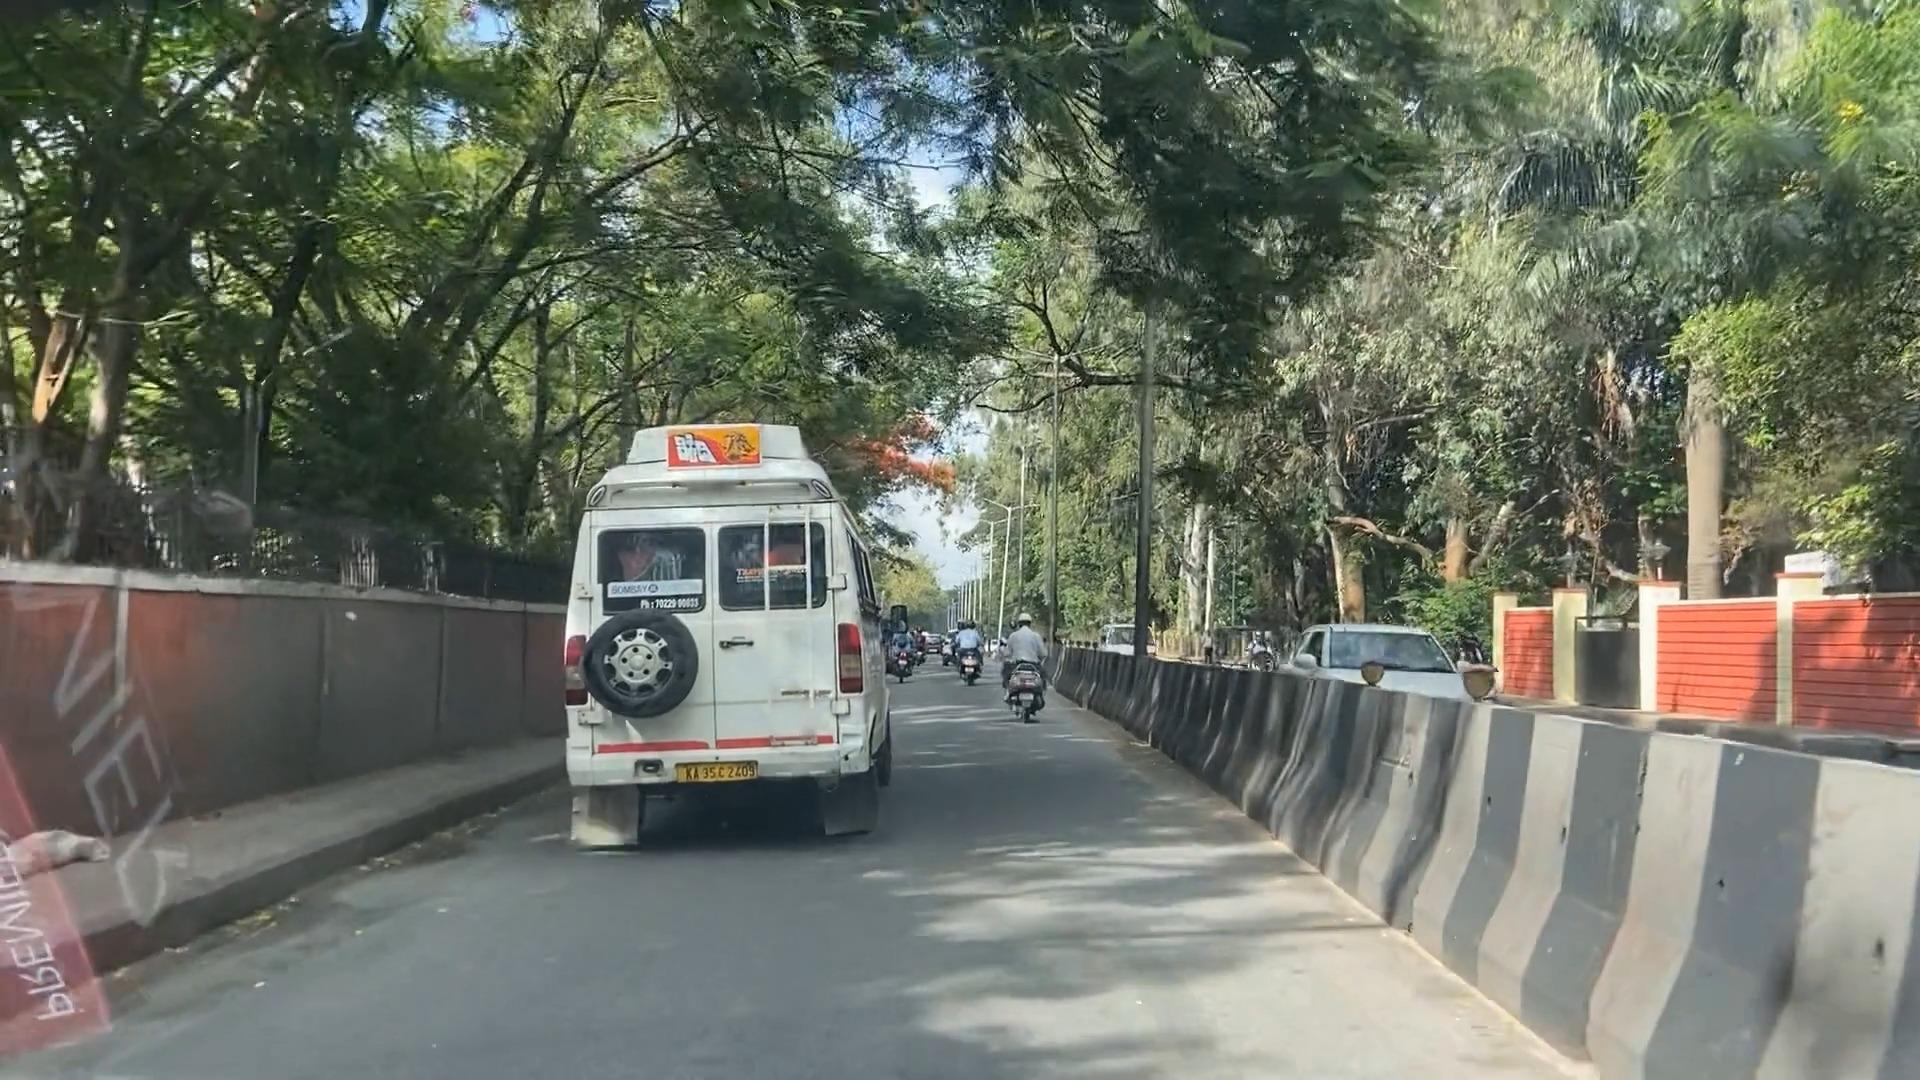HMV: (578, 434, 855, 829)
LMV: (1010, 612, 1047, 717), (957, 618, 980, 683)
